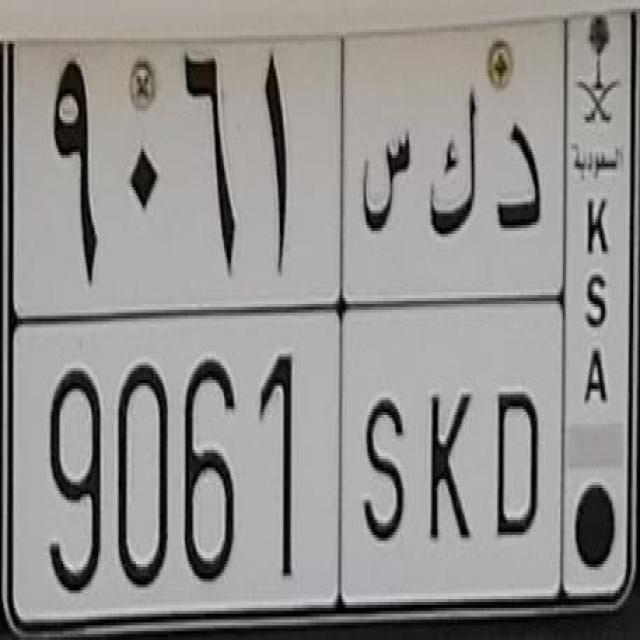license_plate: (6, 8, 637, 629)
